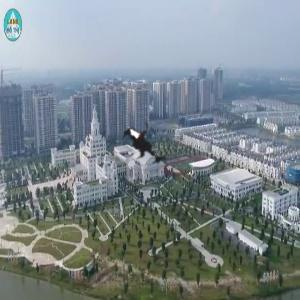drone: (109, 104, 189, 184)
